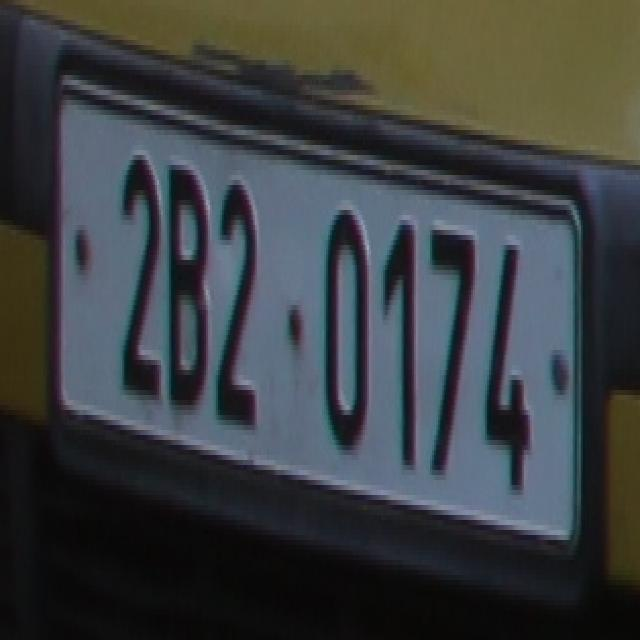0: (320, 185, 371, 455)
1: (379, 200, 424, 480)
2: (114, 145, 163, 405), (216, 165, 261, 435)
4: (485, 220, 536, 520)
7: (428, 200, 477, 500)
B: (165, 150, 210, 430)
